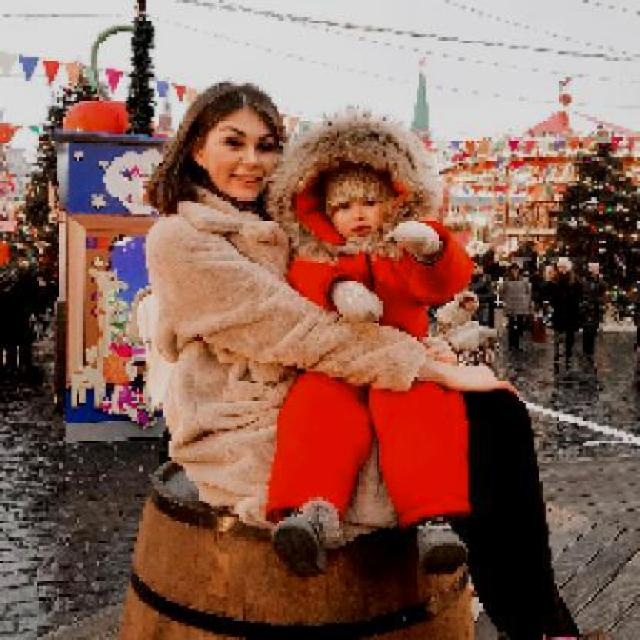child: (264, 108, 479, 578)
